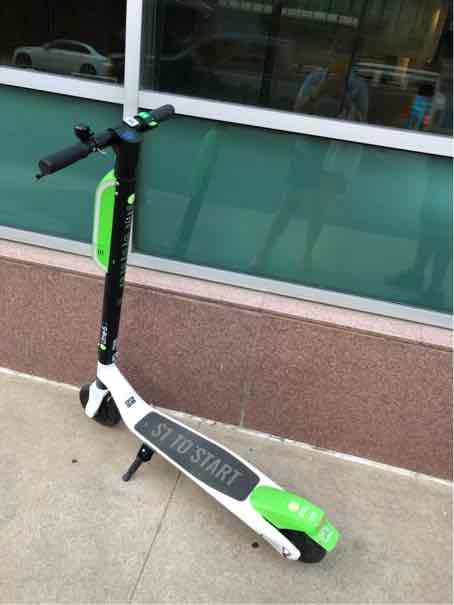scooter: (26, 113, 355, 568)
